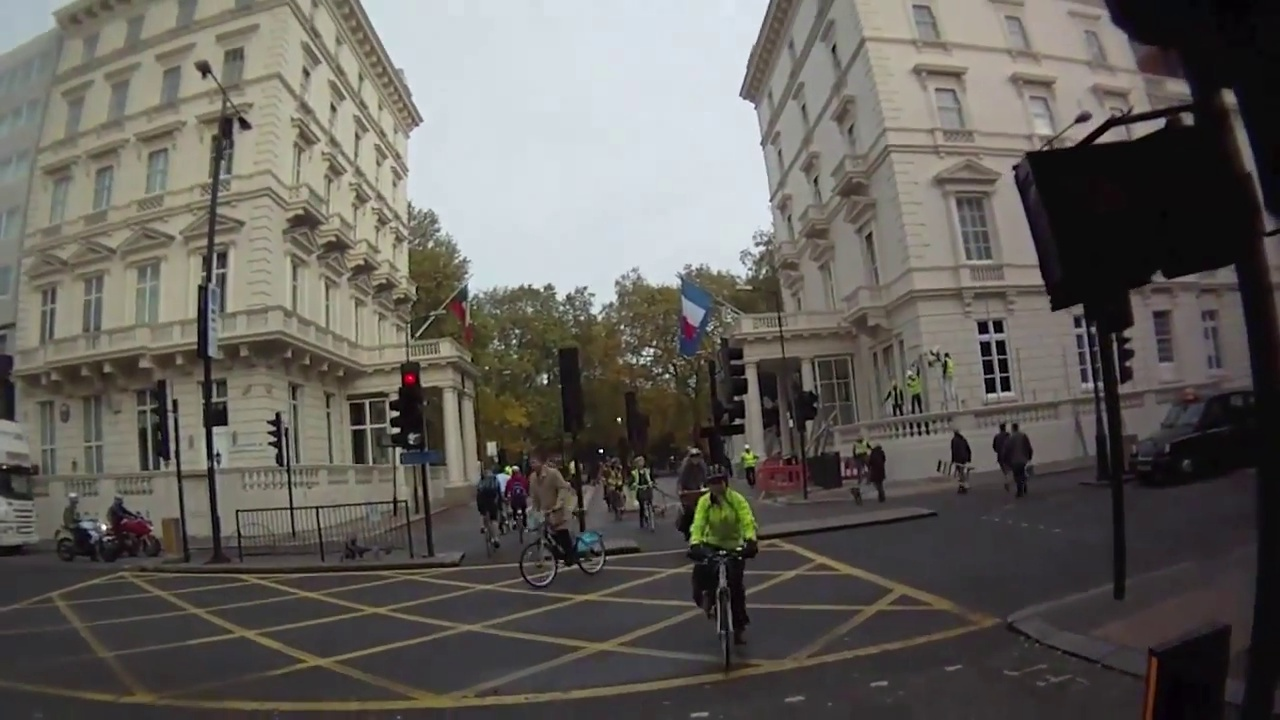cyclist_back: (470, 459, 507, 556)
cyclist_front: (688, 466, 762, 676), (627, 452, 659, 538)
cyclist_side: (517, 450, 614, 585)
